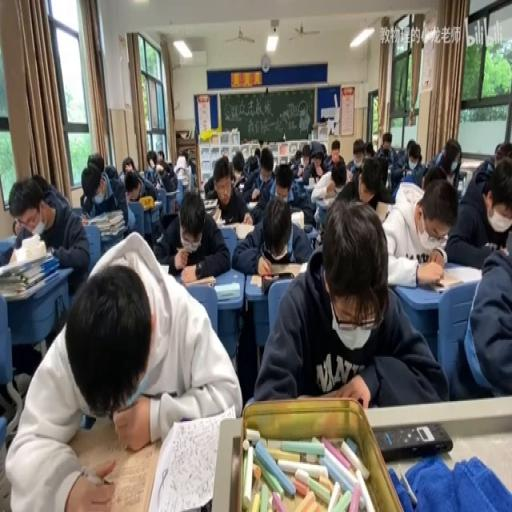calculator: (424, 268, 466, 292), (220, 219, 252, 236), (214, 282, 240, 300), (182, 273, 214, 286), (374, 199, 392, 222), (456, 170, 466, 194), (202, 196, 218, 209), (155, 263, 170, 276), (210, 206, 222, 222), (321, 195, 336, 206), (233, 175, 245, 188), (155, 184, 165, 199), (176, 175, 189, 186), (246, 201, 258, 209), (80, 213, 88, 225), (150, 198, 162, 206), (307, 176, 314, 188), (214, 218, 226, 224)
paper: (9, 228, 238, 508), (256, 198, 443, 410), (0, 174, 90, 298), (445, 153, 512, 270), (152, 188, 226, 277), (82, 156, 128, 234), (202, 154, 252, 223), (336, 152, 392, 212), (286, 155, 322, 229), (246, 155, 278, 222), (126, 154, 160, 198), (400, 140, 426, 186), (441, 144, 461, 180), (375, 129, 394, 161), (422, 164, 446, 189), (330, 160, 346, 190), (154, 149, 172, 175), (493, 140, 512, 163), (31, 172, 50, 194), (86, 152, 104, 174), (276, 178, 291, 199), (330, 138, 341, 164), (352, 142, 365, 160), (104, 164, 118, 179), (146, 150, 156, 170), (365, 141, 375, 158), (181, 148, 190, 166), (300, 145, 309, 162), (294, 148, 301, 163), (320, 144, 326, 156), (415, 154, 422, 164), (253, 148, 259, 158)
person: (373, 420, 453, 458), (262, 274, 294, 294)
